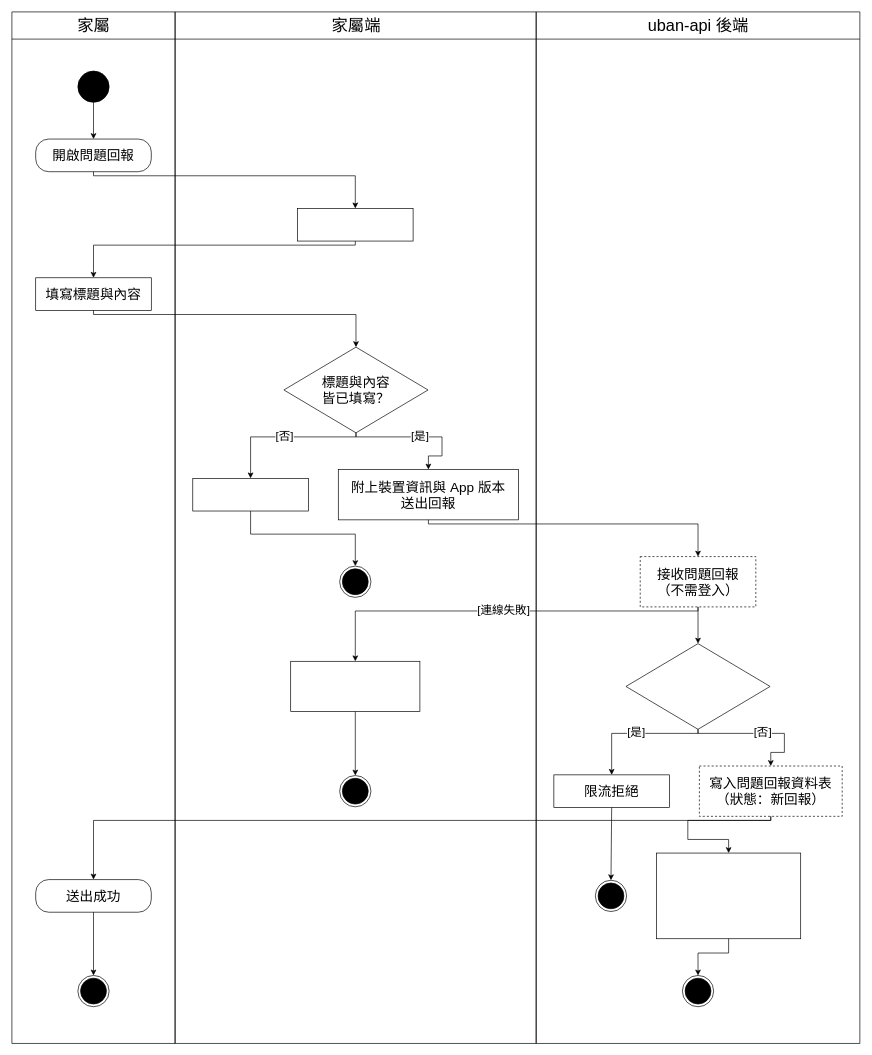
Image size: 872x1055. Some labels were removed from this diagram. The shapes that lost their labels are listed below. From the top down, each one's centre as x and y in pixels, then its label:
(x=355, y=224): 問題回報畫面
(x=250, y=494): 前端擋下並提示
(x=355, y=686): 提示稍後再試 （不會自動重送）
(x=697, y=686): 一分鐘內 超過 5 次？
(x=728, y=895): 開發者檢視與處理 新回報 → 處理中 → 已修復、不予處理 （開發者管理端）
